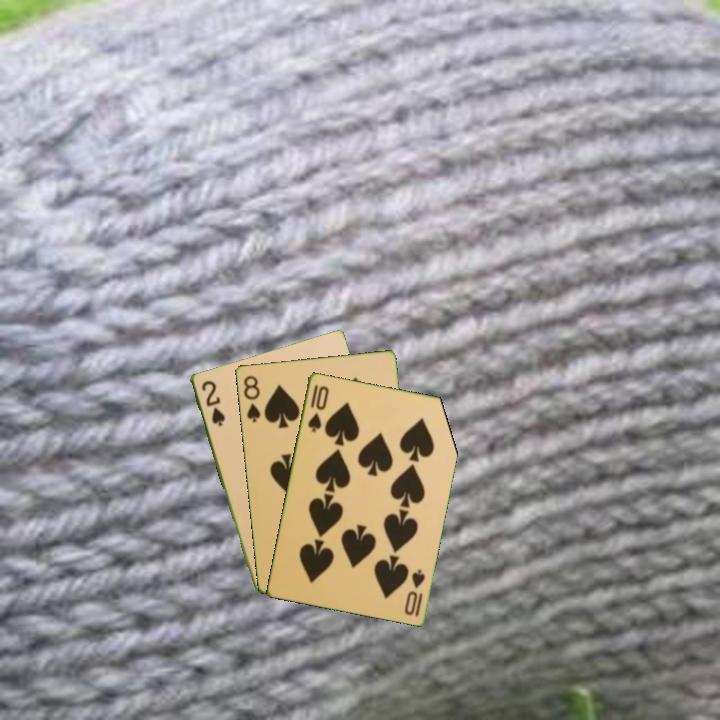10s: (400, 565, 428, 619), (304, 380, 331, 434)
2s: (198, 377, 227, 429)
8s: (240, 372, 263, 425)
